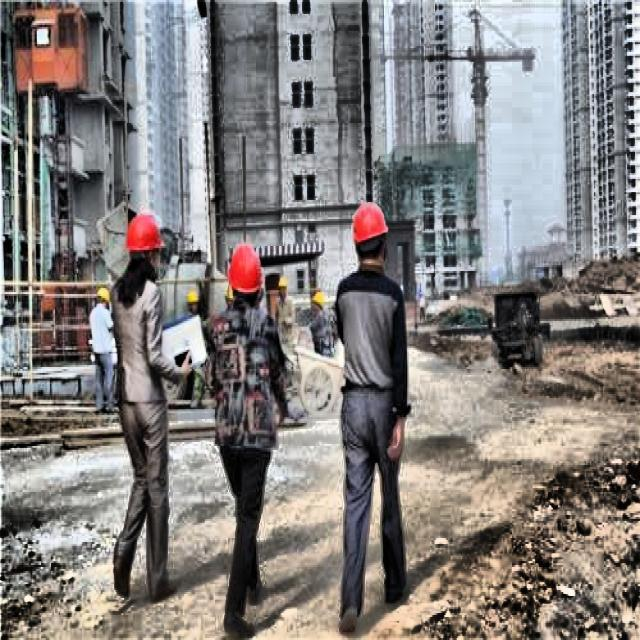helmet: (124, 210, 164, 280), (352, 204, 390, 276), (228, 240, 265, 312), (96, 282, 113, 314), (183, 288, 198, 314), (310, 290, 325, 315), (274, 275, 288, 300)
